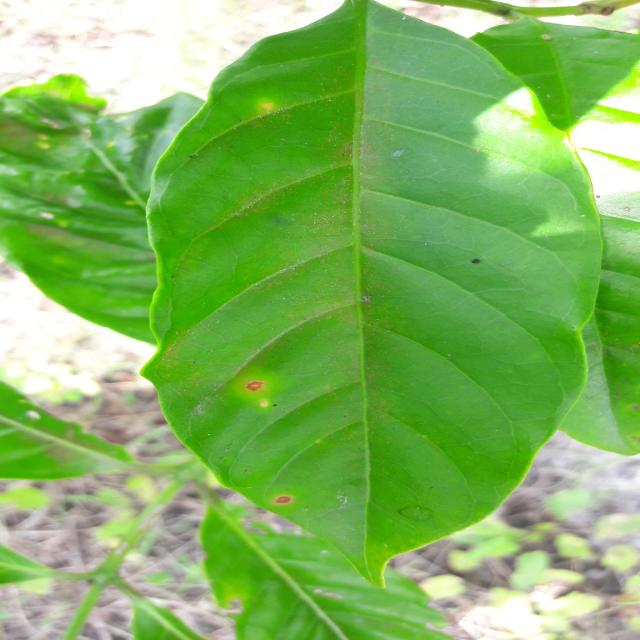Enfermedad-Roya: (139, 2, 634, 589)
